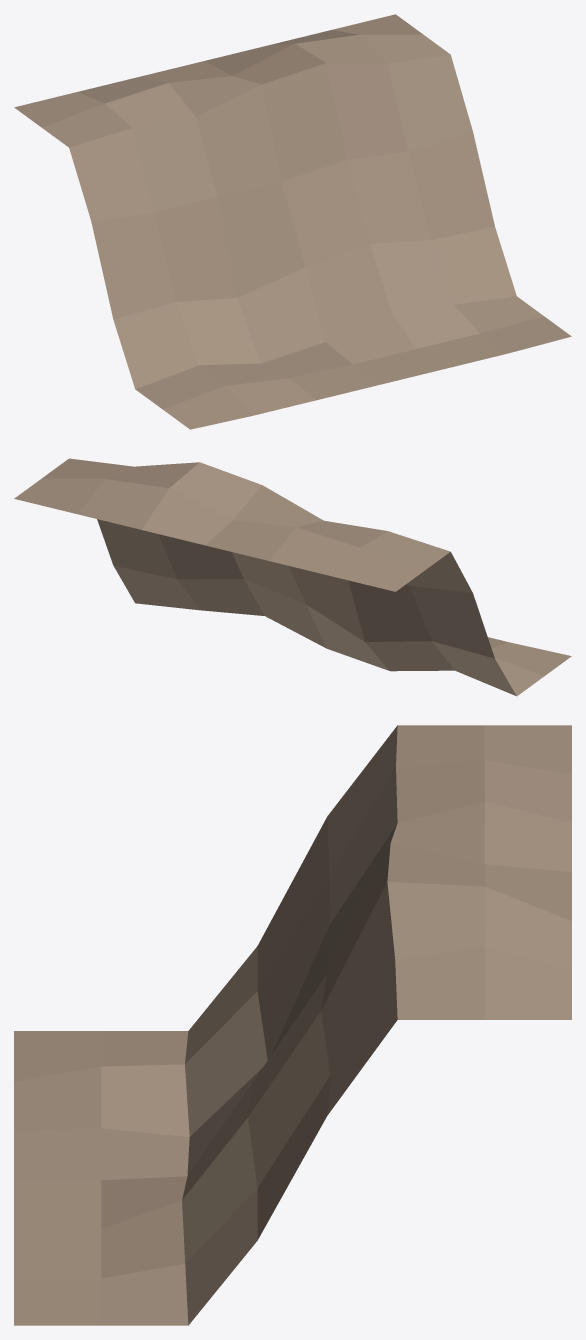
File: Groborchik_RiverBank_3m_2.fbx
The picture shows the model from 3 angles, top to bottom: view 1: azimuth 30°, elevation 25°; view 2: azimuth 150°, elevation 25°; view 3: azimuth 270°, elevation 25°; orthographic projection. The views are drawn at different scales.
Parts seen in each view (by area): view 1: 3m_2; view 2: 3m_2; view 3: 3m_2.
Boxes of the visible parts, x1=… form: 3m_2: x1=14, y1=14, x2=571, y2=429; 3m_2: x1=14, y1=458, x2=571, y2=696; 3m_2: x1=14, y1=725, x2=571, y2=1325.
Size of the model in its own units: 1000 by 560 by 800.
